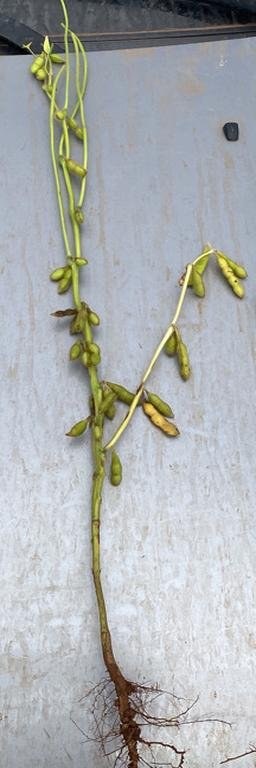pod: (176, 342, 194, 381), (63, 415, 90, 438), (109, 451, 122, 488), (66, 158, 87, 178), (26, 52, 43, 75), (194, 270, 206, 299), (58, 273, 72, 295), (88, 311, 104, 327), (67, 342, 82, 359), (51, 309, 79, 315)
soy: (28, 20, 252, 742)
